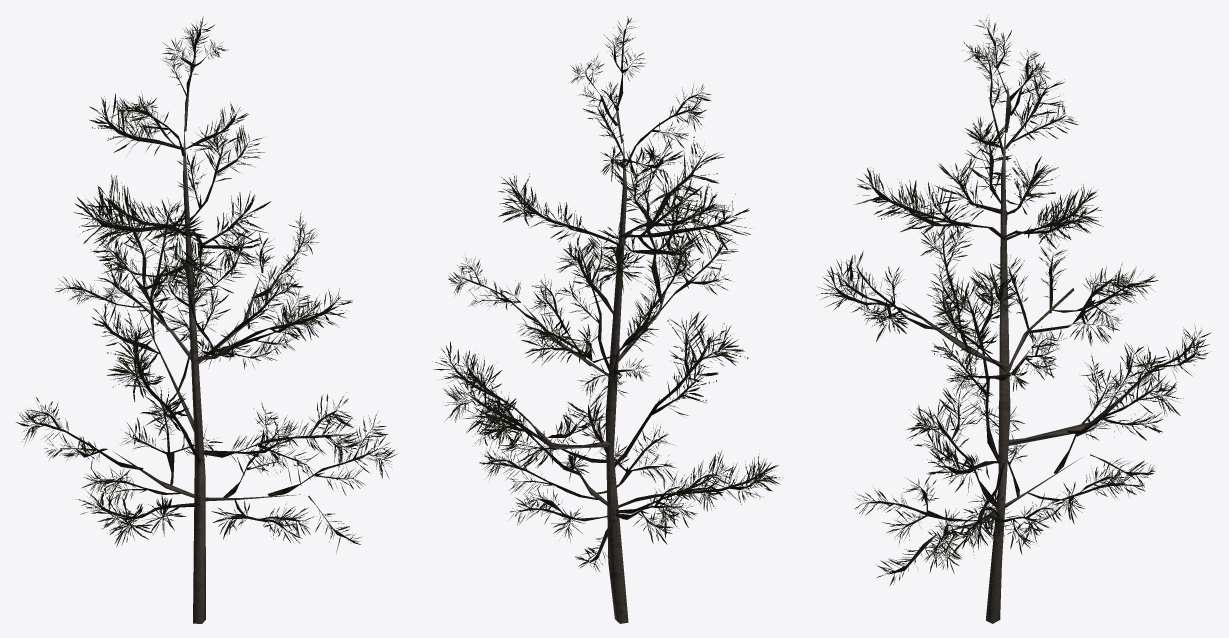
File: pine_sapling_small_c.glb
3 renders of one model, left to right at view 1: azimuth 30°, elevation 25°; view 2: azimuth 150°, elevation 25°; view 3: azimuth 270°, elevation 25°, orthographic.
Visible parts, largest first — view 1: pine_sapling_small_c; view 2: pine_sapling_small_c; view 3: pine_sapling_small_c.
Part boxes in pixels (x1,y1,x2,y2): pine_sapling_small_c: (15, 16, 398, 623); pine_sapling_small_c: (432, 16, 782, 623); pine_sapling_small_c: (816, 15, 1211, 623).
Bounding box in the file's own units: 0.5117 × 0.9617 × 0.5764.
2 materials, 2 textured.
